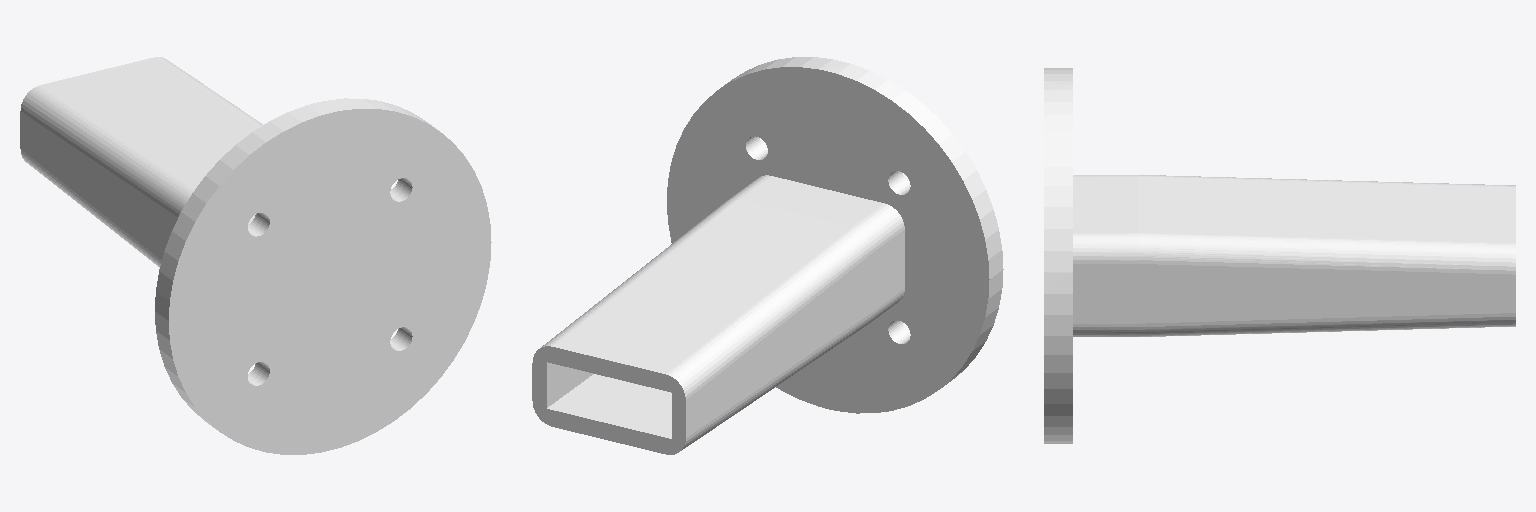
The robot description file, URDF, robot "sensers_fixture_description":

<robot name="sensers_fixture_description">
  <link
    name="sensers_fixture">
    <inertial>
      <origin
        xyz="4.18735556545285E-09 0.0324554574961351 -6.82594278236109E-08"
        rpy="0 0 0" />
      <mass
        value="0.0954684915143987" />
      <inertia
        ixx="9.30657043025666E-05"
        ixy="-1.02571703263879E-11"
        ixz="-8.93160989274152E-13"
        iyy="3.45675447178869E-05"
        iyz="1.63617281151604E-10"
        izz="9.81368067608651E-05" />
    </inertial>
    <visual>
      <origin
        xyz="0 0 0"
        rpy="0 0 0" />
      <geometry>
        <mesh
          filename="package://sensers_fixture_description/meshes/sensers_fixture.STL" />
      </geometry>
      <material
        name="">
        <color
          rgba="1 1 1 1" />
      </material>
    </visual>
    <collision>
      <origin
        xyz="0 0 0"
        rpy="0 0 0" />
      <geometry>
        <mesh
          filename="package://sensers_fixture_description/meshes/sensers_fixture.STL" />
      </geometry>
    </collision>
  </link>
</robot>

--- Render facts (derived) ---
Views: 3 orthographic renders of the robot side by side, from view 1: azimuth 30°, elevation 25°; view 2: azimuth 150°, elevation 25°; view 3: azimuth 270°, elevation 25°.
Model sensers_fixture_description with 1 links and 0 joints (none), rooted at sensers_fixture, posed every joint at zero.
Links seen in each view (by area): view 1: sensers_fixture; view 2: sensers_fixture; view 3: sensers_fixture.
Boxes of the visible links, x1,y1,x2,y2 form: sensers_fixture: (20,57,491,454); sensers_fixture: (532,57,1003,454); sensers_fixture: (1044,68,1515,443).
Bounding box of the posed robot: 0.08 × 0.1 × 0.08 m (x, y, z).
Meshes: 1 distinct files referenced, 1 mesh visuals loaded (1 binary STL).
